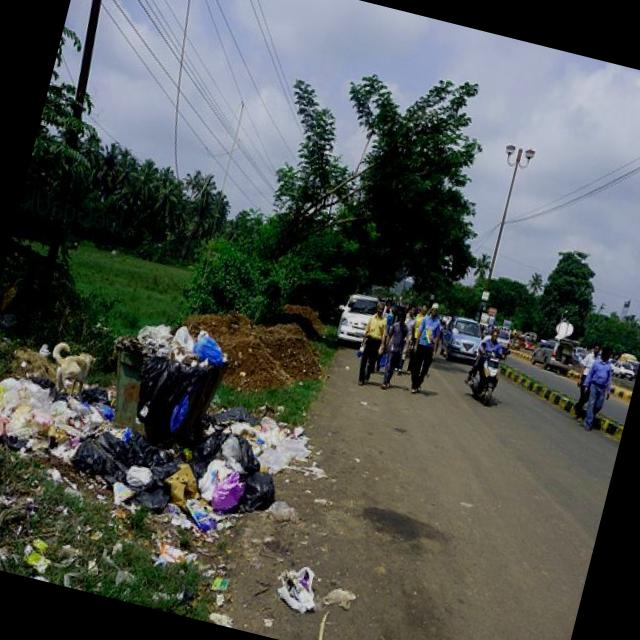high trash: (0, 377, 324, 533)
less trash: (277, 566, 315, 611)
